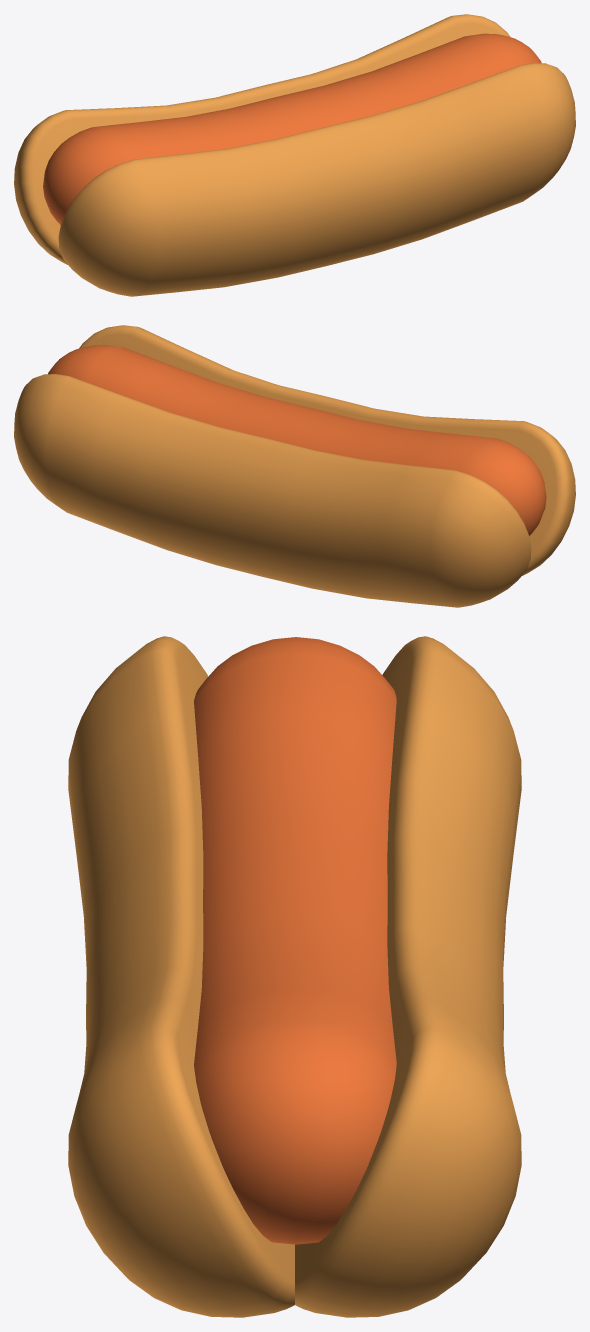
Rendered from HotDogIndividual.glb.
3 renders of one model, top to bottom at view 1: azimuth 30°, elevation 25°; view 2: azimuth 150°, elevation 25°; view 3: azimuth 270°, elevation 25°, orthographic. The views are drawn at different scales.
Visible parts, largest first — view 1: Cube, Cube.001, Cube.002; view 2: Cube.002, Cube.001, Cube; view 3: Cube.001, Cube, Cube.002.
Part boxes in pixels (x1,y1,x2,y2): Cube: (58, 63, 575, 296); Cube.001: (43, 33, 541, 225); Cube.002: (14, 14, 510, 264); Cube.002: (14, 374, 531, 607); Cube.001: (48, 345, 546, 535); Cube: (79, 325, 575, 575); Cube.001: (194, 637, 396, 1244); Cube: (68, 636, 294, 1317); Cube.002: (295, 636, 521, 1317).
Bounding box in the file's own units: 5.66 × 1.79 × 2.2.
